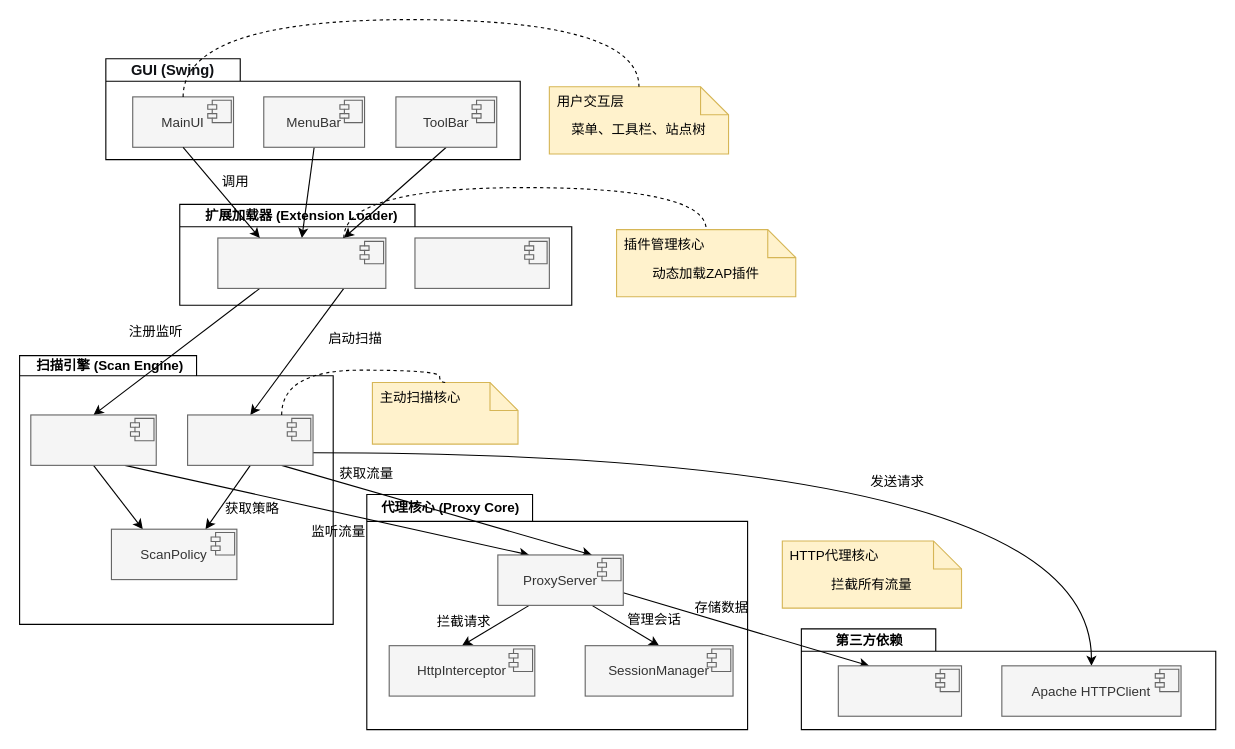
The diagram is 1235 pixels wide and 749 high, and some of its shapes have lost their labels. The shapes that lost their labels are listed below. From the top down, each one's centre as x and y in pixels, then its label:
[301,262]: ExtensionManager
[481,262]: AddonLoader
[444,412]: 执行漏洞检测
[93,439]: PassiveScan
[249,439]: ActiveScan
[899,690]: HSQLDB
